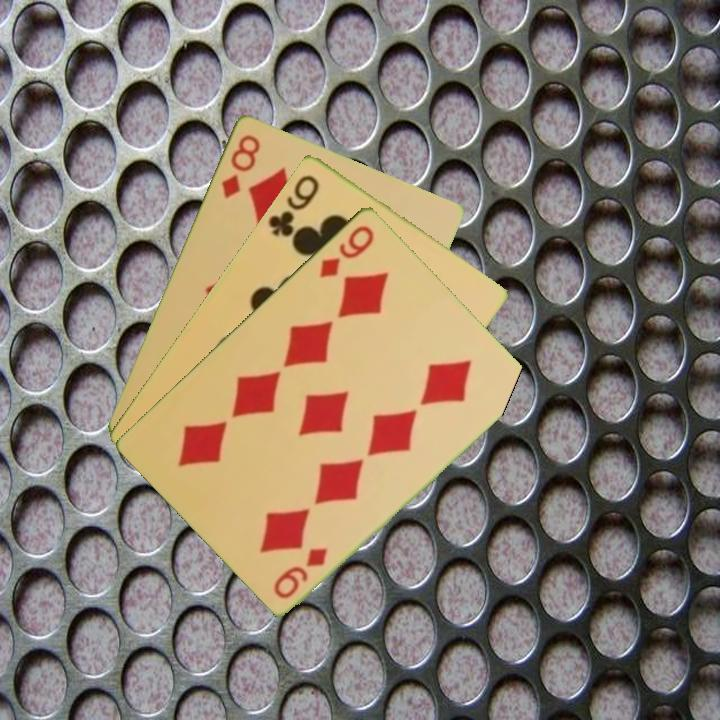8d: (217, 130, 263, 202)
9c: (264, 170, 322, 240)
9d: (315, 221, 377, 281), (270, 543, 331, 602)
